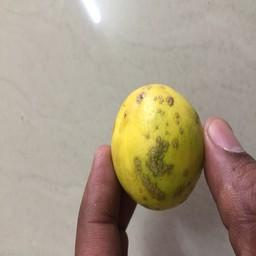Bad_lime: (110, 75, 205, 214)
